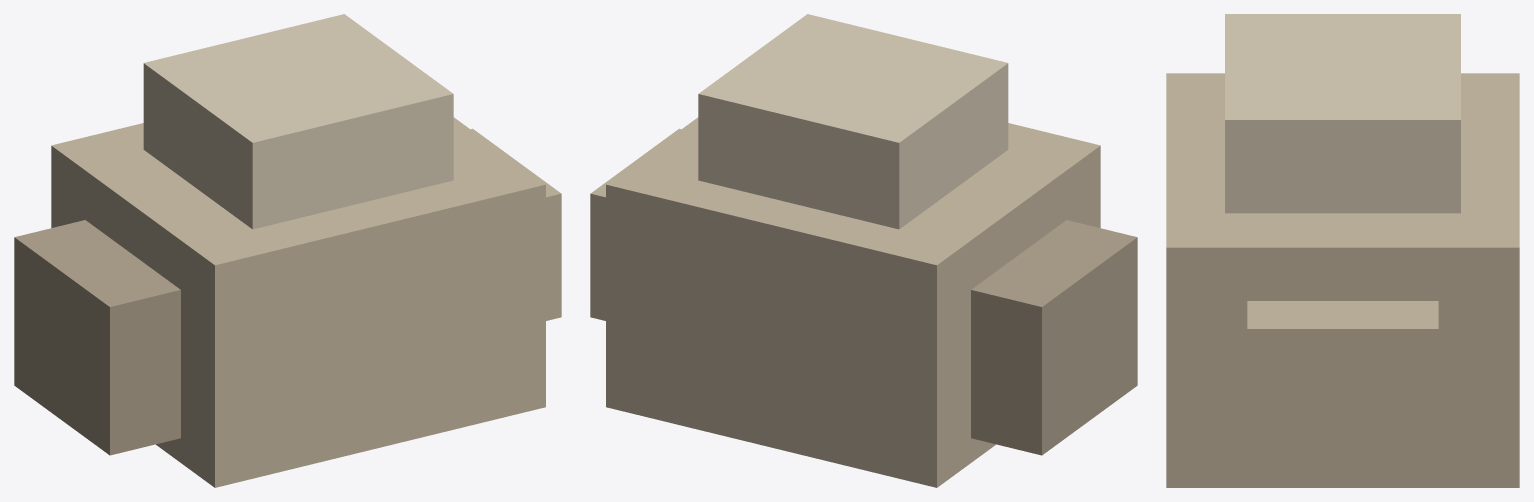
Rendered from rock.glb.
3 renders of one model, left to right at view 1: azimuth 30°, elevation 25°; view 2: azimuth 150°, elevation 25°; view 3: azimuth 270°, elevation 25°, orthographic. The views are drawn at different scales.
Visible parts, largest first — view 1: body, top, sideL, sideR; view 2: body, top, sideL, sideR; view 3: body, top, sideR.
Part boxes in pixels (bbox=[...]): body: bbox=[51, 117, 545, 487]; top: bbox=[143, 14, 453, 229]; sideL: bbox=[14, 220, 180, 455]; sideR: bbox=[471, 128, 561, 320]; body: bbox=[606, 117, 1100, 487]; top: bbox=[698, 14, 1008, 229]; sideL: bbox=[971, 220, 1137, 455]; sideR: bbox=[590, 128, 680, 320]; body: bbox=[1166, 73, 1519, 487]; top: bbox=[1225, 14, 1460, 213]; sideR: bbox=[1247, 301, 1438, 462].
Bounding box in the file's own units: 1.93 × 1.25 × 1.2.
